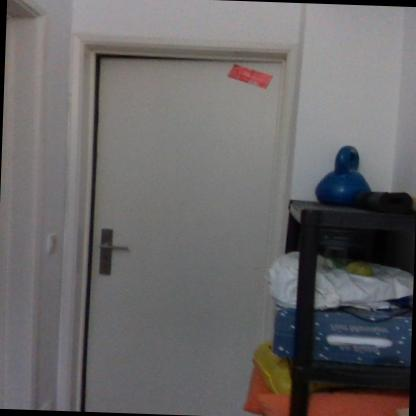closed: (47, 17, 319, 416)
